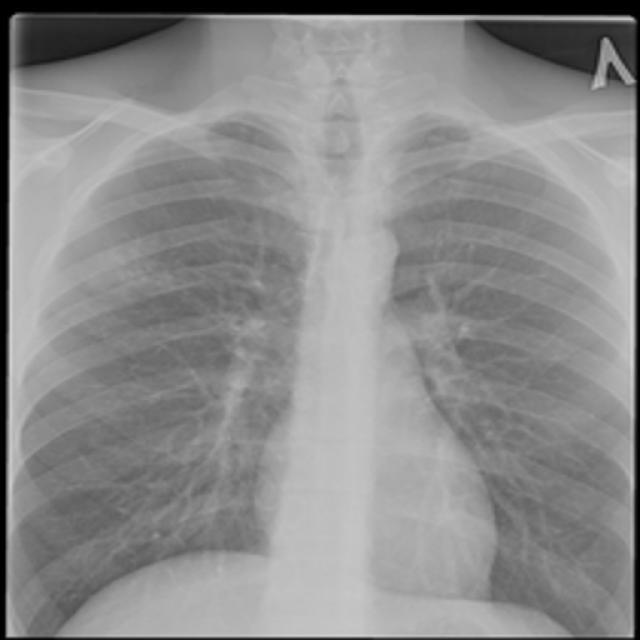abnormalities: (145, 308, 267, 544)
diaphragm: (59, 547, 581, 640)
heart: (255, 220, 500, 614)
left_lobe: (379, 110, 630, 633)
right_lobe: (11, 109, 320, 632)
